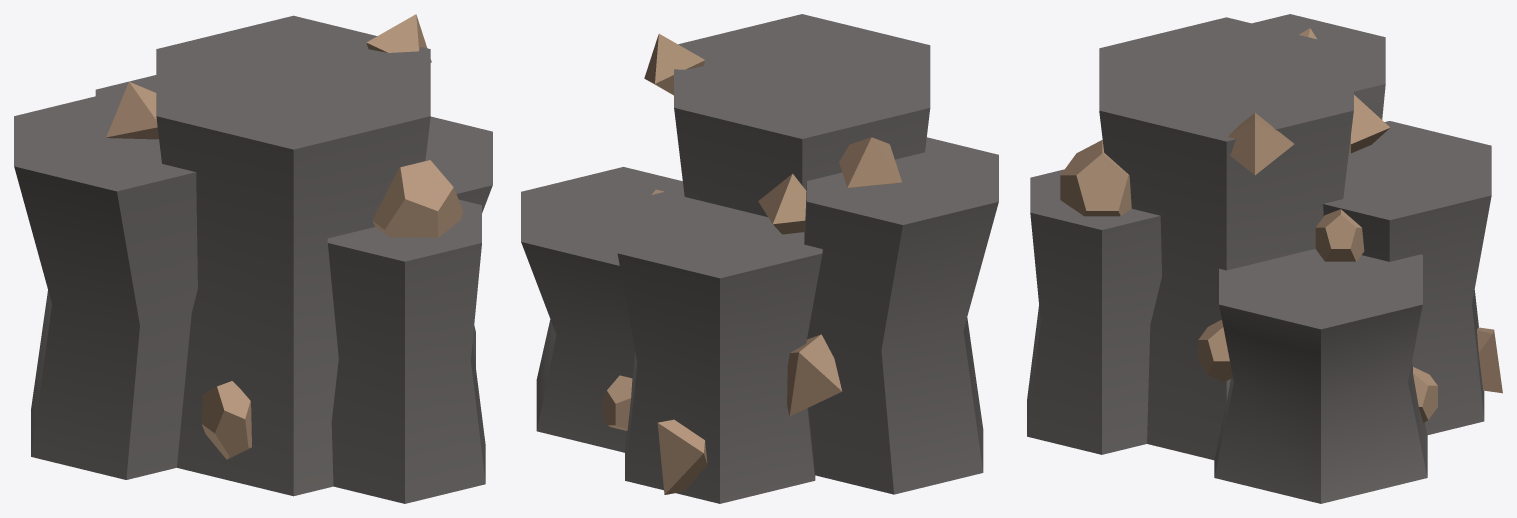
Rendered from Ore01.fbx.
3 renders of one model, left to right at view 1: azimuth 30°, elevation 25°; view 2: azimuth 150°, elevation 25°; view 3: azimuth 270°, elevation 25°, orthographic. The views are drawn at different scales.
Parts seen in each view (by area): view 1: pPlatonic3; view 2: pPlatonic3; view 3: pPlatonic3.
Boxes of the visible parts, box(x1,y1,x2,y2) form: pPlatonic3: box(14, 14, 492, 503); pPlatonic3: box(521, 14, 998, 503); pPlatonic3: box(1027, 14, 1502, 503).
Bounding box in the file's own units: 2.11 × 1.5 × 1.89.
